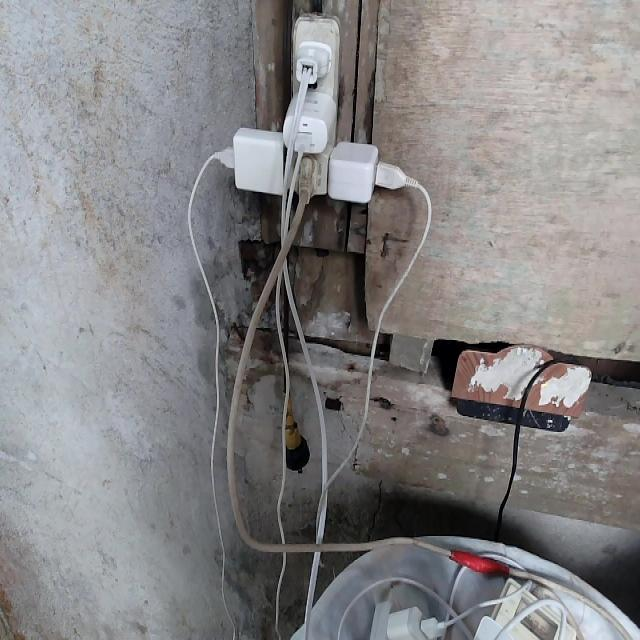-: (226, 9, 395, 204)
